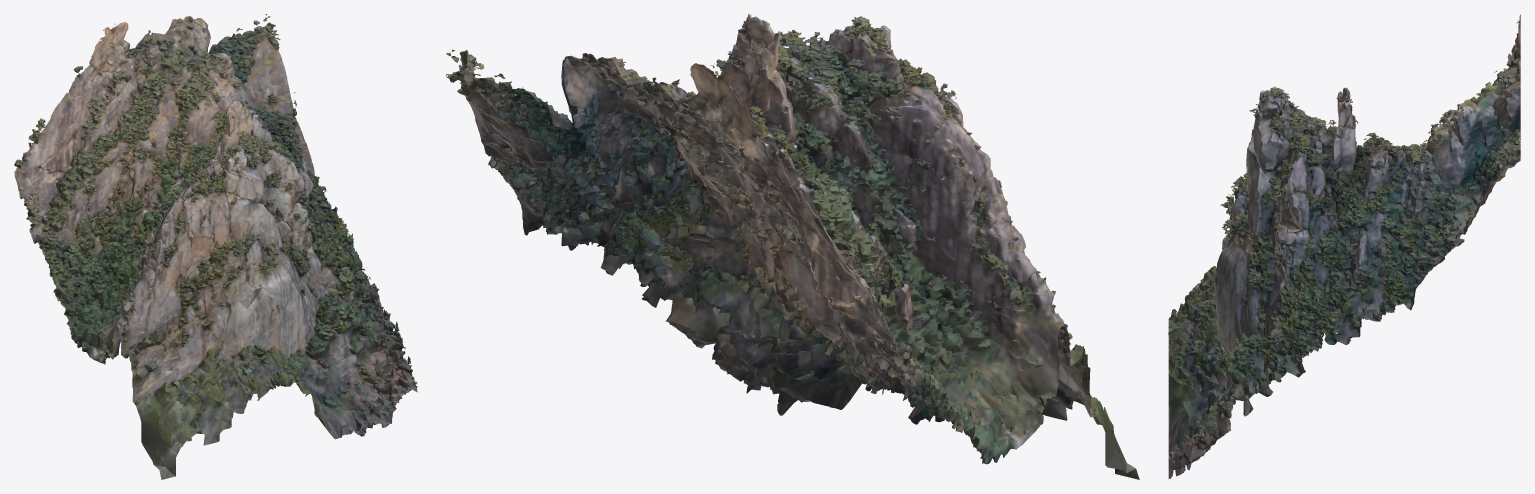
File: mountain-peak-far-lod-candidate.glb
3 views of the same model, side by side, from view 1: azimuth 30°, elevation 25°; view 2: azimuth 150°, elevation 25°; view 3: azimuth 270°, elevation 25° (orthographic). The views are drawn at different scales.
Parts seen in each view (by area): view 1: Object_2; view 2: Object_2; view 3: Object_2.
Part boxes in pixels (x1,y1,x2,y2): Object_2: [14, 14, 417, 479]; Object_2: [446, 14, 1139, 479]; Object_2: [1168, 14, 1520, 478].
Size of the model in its own units: 212 by 264 by 212.
Materials: 1 (1 with a texture image).
